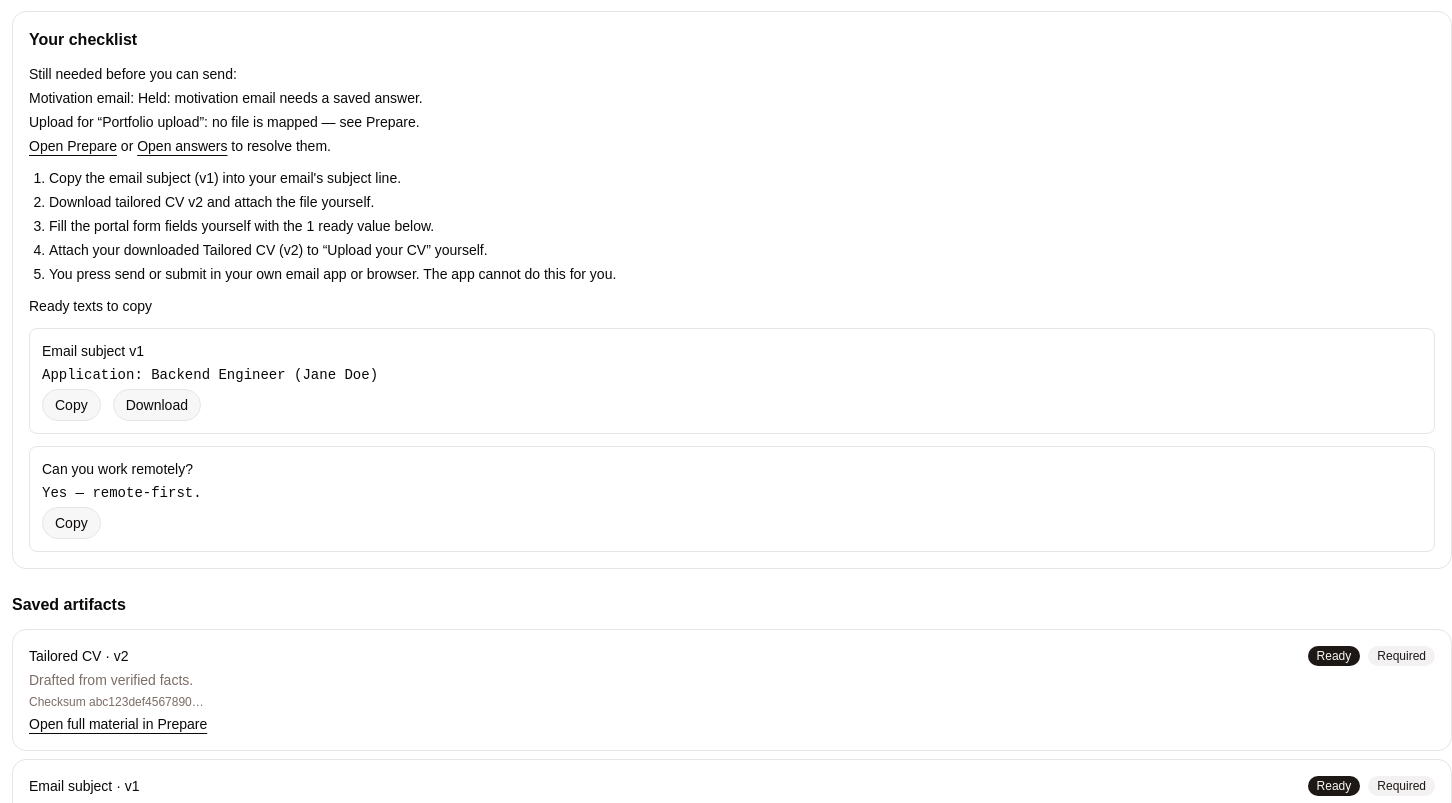
Test: HandoffPage › copies a ready text exactly
(page scrolled)
Click the button with aria-label "Copy Email subject v1". click: [71, 405]
box: x1=42 y1=389 x2=101 y2=421
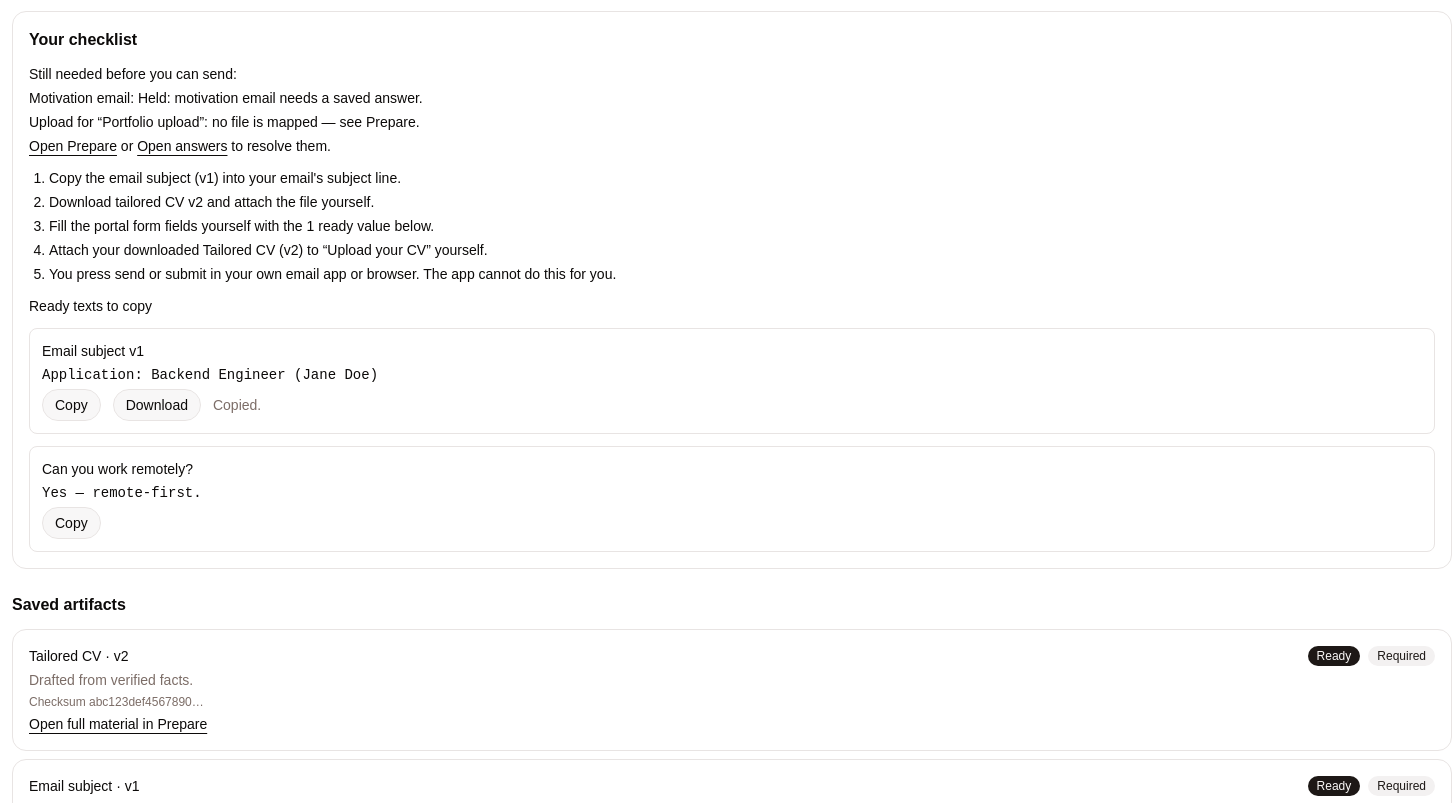
Expected: the text "Copied." is shown, x1=213 y1=395 x2=261 y2=415
